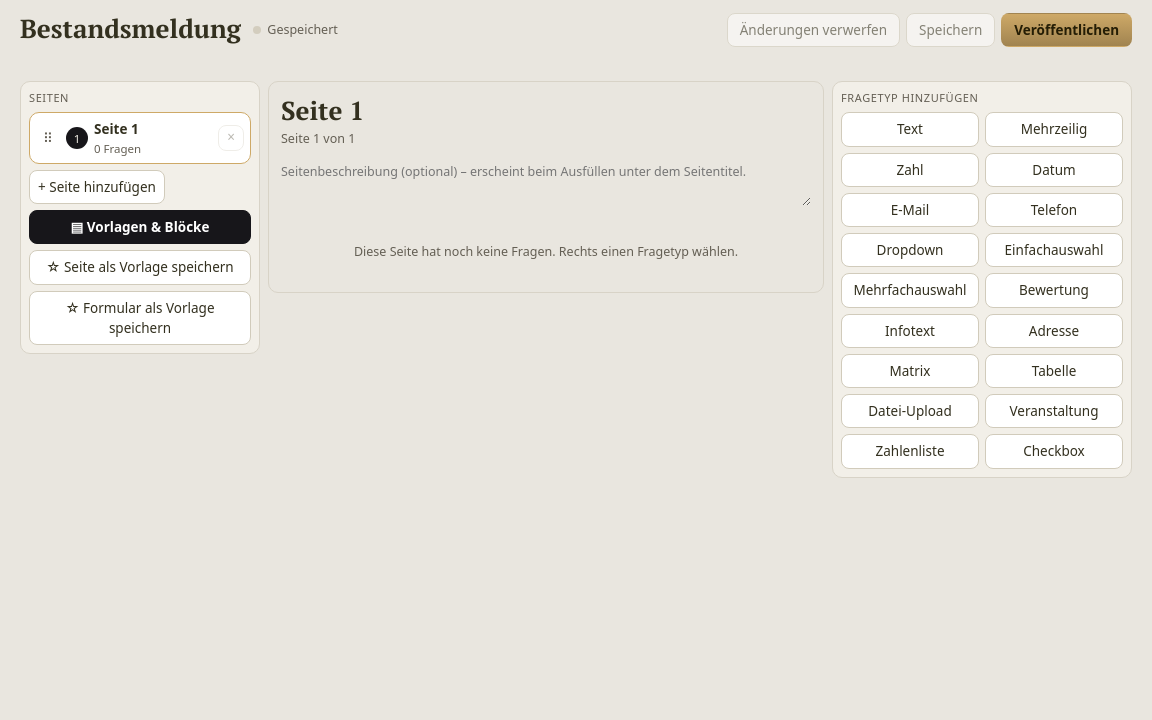
Test case: BuilderView › adds a question, shows its preview and opens its properties
The image size is (1152, 720).
expect the field named "Formularname" is shown: met, box [20,12,241,48]
Click the button "Dropdown": point(910, 250) [841,233,979,267]
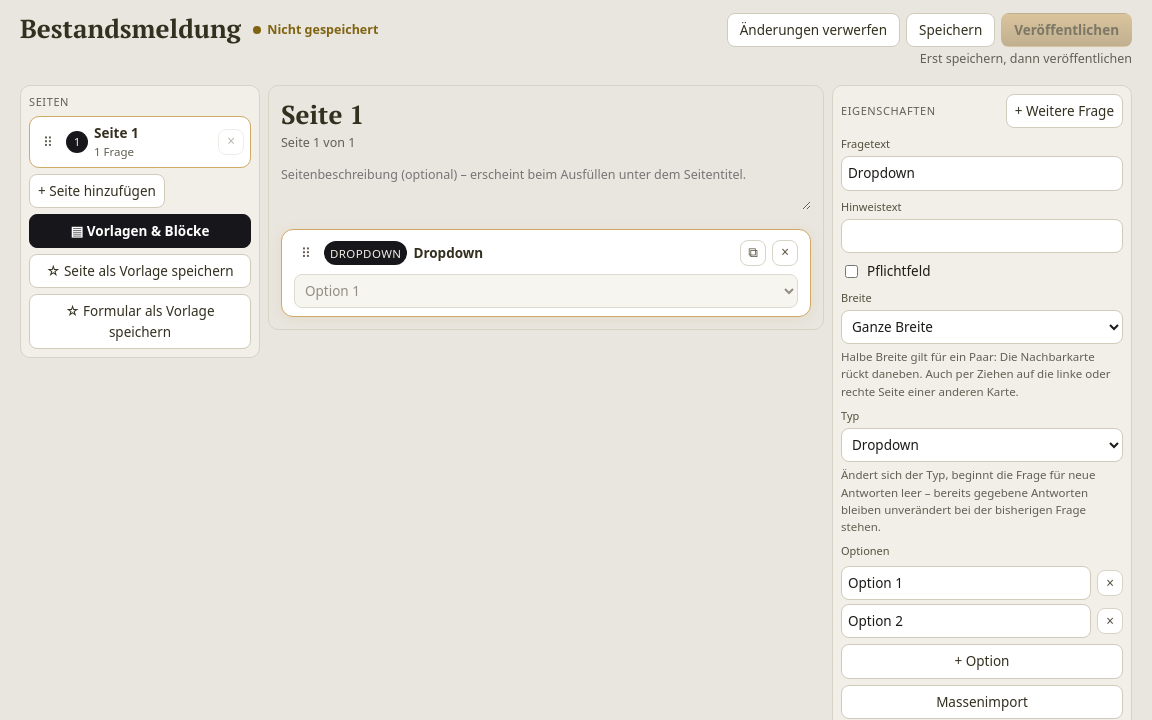
expect the text "1 Frage" is shown: met, box [94,144,134,159]
expect the button named "Frage 1 verschieben" is shown: met, box [294,238,318,268]
expect the field labelled "Fragetext" is shown: met, box [841,156,1123,191]
